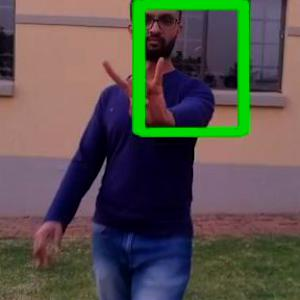takeoff-hand: (92, 50, 176, 141)
